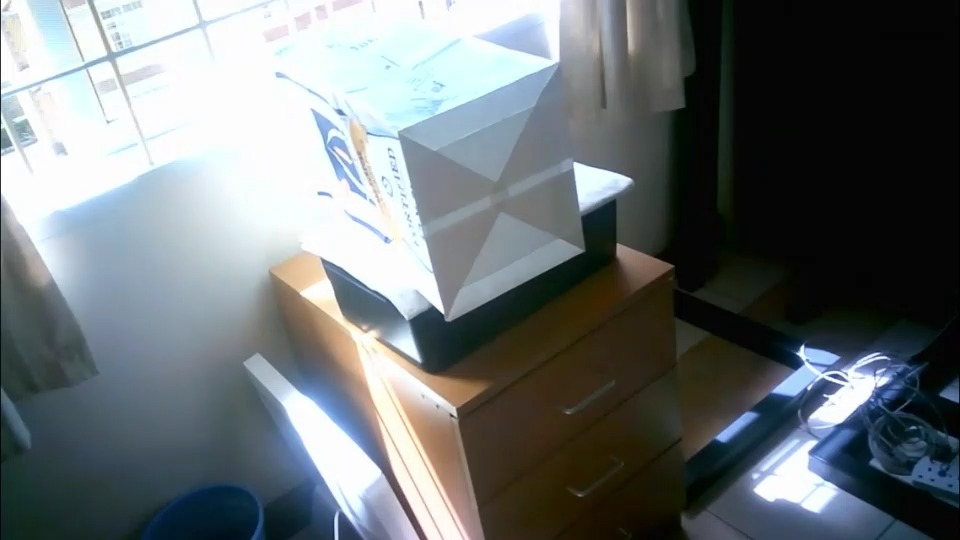wheat_flour_blue_label: (270, 14, 585, 319)
